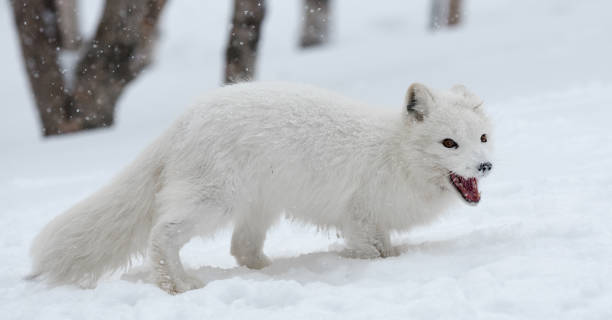arcticfox: (427, 113, 501, 204)
